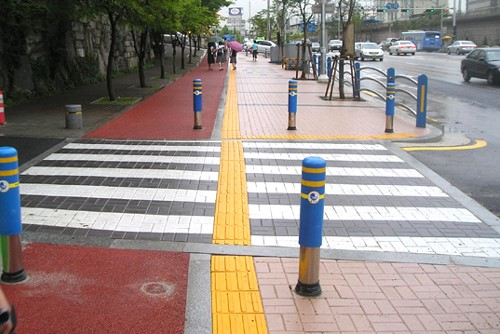guide_blocks: (211, 257, 266, 334), (218, 139, 247, 245), (222, 63, 243, 139), (248, 134, 411, 140)
